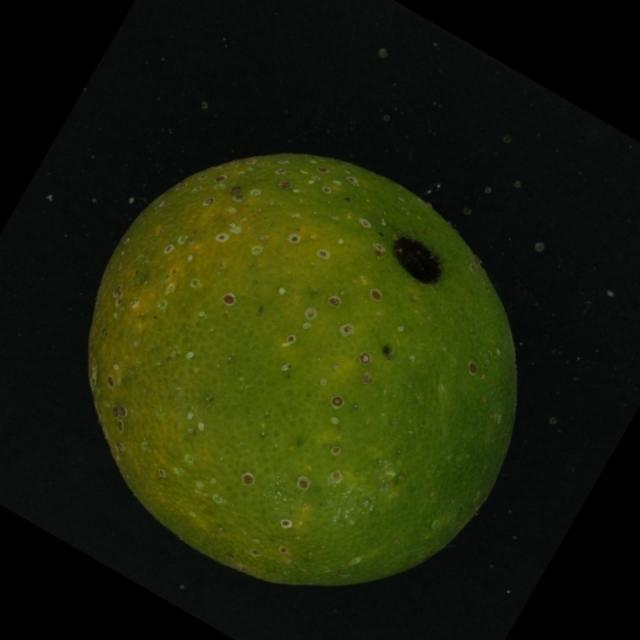grenning: (54, 132, 544, 615)
